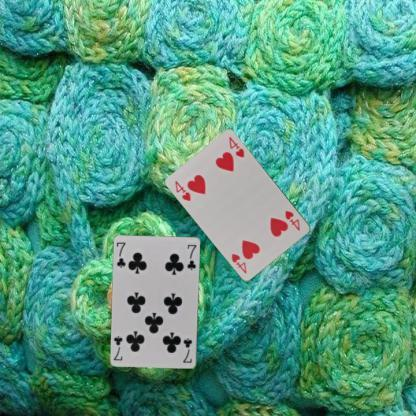4h: (172, 178, 192, 202), (282, 208, 301, 232)
7c: (115, 240, 127, 270), (180, 336, 192, 364)
